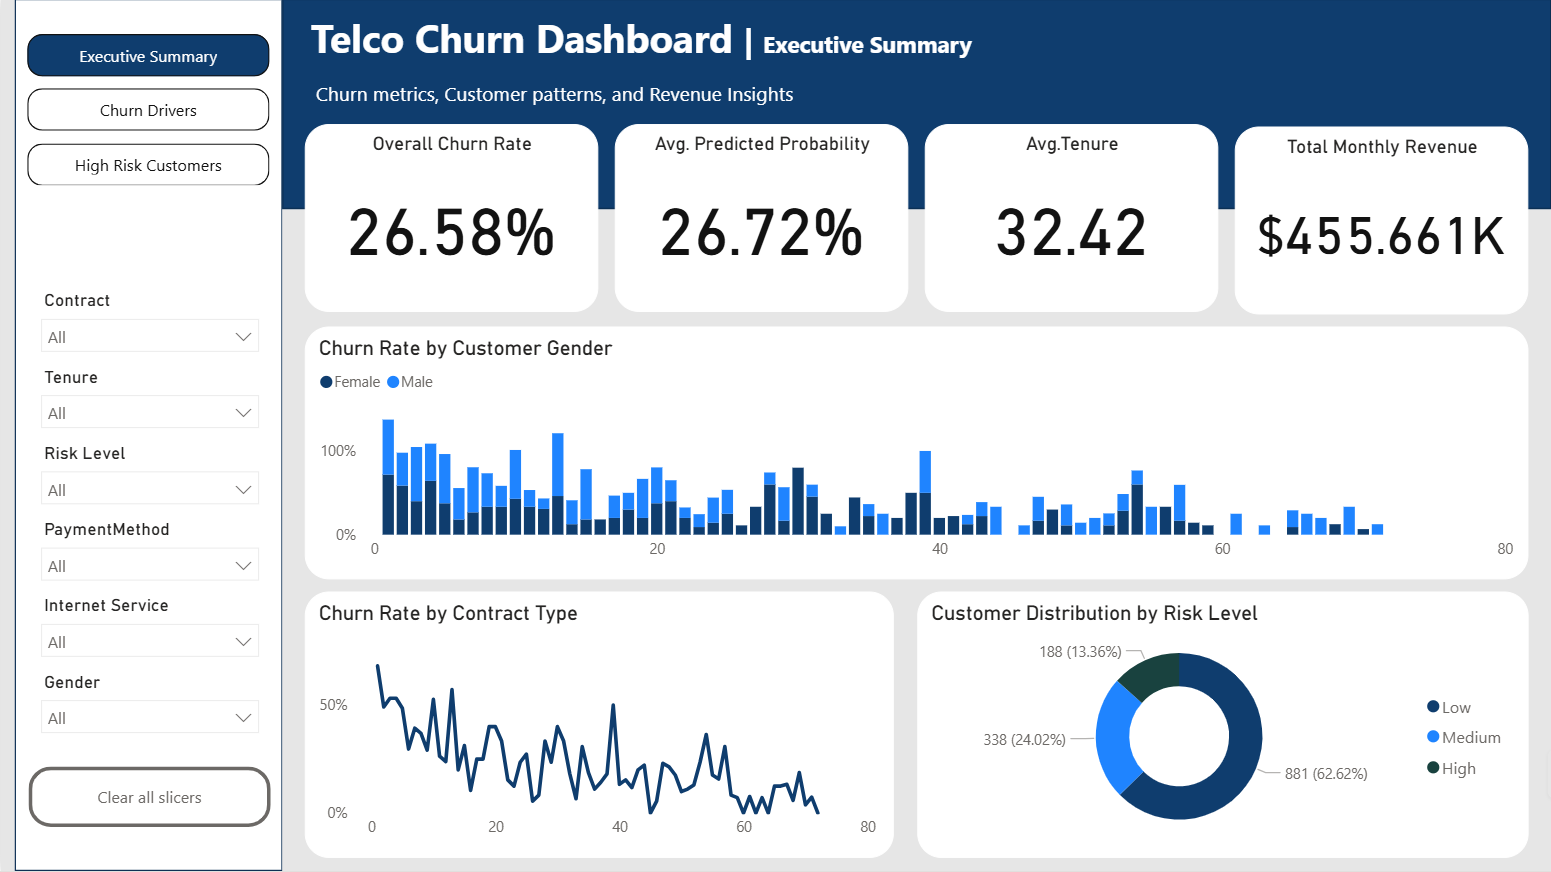

This screenshot's page, from the dashboard's own definition file:
{"tool":"powerbi","page":{"name":"Executive Summary","canvas":[1280,720],"ordinal":0},"visuals":[{"type":"shape","box":[11.1,0,221.1,720],"z":0},{"type":"slicer","fields":{"Values":["telco_churn churn_model_data.Contract"]},"box":[22.2,235.6,200,63.3],"z":0,"group":"g2"},{"type":"shape","box":[232.2,0,1047.8,173.3],"z":1000},{"type":"cardVisual","title":"Avg. Predicted Probability ","fields":{"Data":["Avg(telco_churn churn_predictions.predicted_probability)"]},"box":[507,102.9,242.2,155.6],"z":1000,"group":"g1"},{"type":"cardVisual","title":"Overall Churn Rate","fields":{"Data":["Avg(telco_churn churn_predictions.actual_churn)"]},"box":[251.1,103.3,242.2,155.6],"z":1000,"group":"g3"},{"type":"slicer","fields":{"Values":["telco_churn churn_model_data.tenure"]},"box":[22.2,298.5,200,63.3],"z":1000,"group":"g2"},{"type":"cardVisual","title":"Avg.Tenure","fields":{"Data":["Avg(telco_churn churn_model_data.tenure)"]},"box":[763,103.3,242.2,155.6],"z":2000,"group":"g3"},{"type":"slicer","fields":{"Values":["telco_churn churn_model_data.InternetService"]},"box":[22.2,487.2,200,63.3],"z":2000,"group":"g2"},{"type":"lineChart","title":"Churn Rate by Contract Type","fields":{"Category":["Churn_prediction.tenure"],"Y":["Avg(telco_churn churn_predictions.actual_churn)"]},"box":[251.1,488.9,486.7,220],"z":2000},{"type":"cardVisual","title":"Total Monthly Revenue","fields":{"Data":["Sum(telco_churn churn_model_data.MonthlyCharges)"]},"box":[1018.9,104.5,242.2,155.6],"z":3000,"group":"g3"},{"type":"slicer","fields":{"Values":["telco_churn churn_model_data.PaymentMethod"]},"box":[22.2,424.3,200,63.3],"z":3000,"group":"g2"},{"type":"donutChart","title":"Customer Distribution by Risk Level","fields":{"Category":["telco_churn churn_predictions.risk_bucket"],"Y":["CountNonNull(telco_churn churn_predictions.customerID)"]},"box":[756.7,488.9,504.4,220],"z":3000},{"type":"columnChart","title":"Churn Rate by Customer Gender","fields":{"Y":["Avg(telco_churn churn_predictions.actual_churn)"],"Category":["telco_churn churn_model_data.tenure"],"Series":["telco_churn churn_model_data.gender"]},"box":[251.1,270,1010,208.9],"z":4000},{"type":"slicer","fields":{"Values":["telco_churn churn_predictions.risk_bucket"]},"box":[22.2,361.4,200,63.3],"z":4000,"group":"g2"},{"type":"pageNavigator","box":[21.8,29.1,200.6,127.8],"z":5000},{"type":"slicer","fields":{"Values":["telco_churn churn_model_data.gender"]},"box":[22.2,550,200,63.3],"z":5000,"group":"g2"},{"type":"group","id":"g1","title":"Group 1","box":[507,102.9,242.2,155.6],"z":6000,"group":"g3"},{"type":"actionButton","box":[22.2,633.3,200,50],"z":6000},{"type":"textbox","box":[251.1,5.6,673.3,56.7],"z":7000},{"type":"group","id":"g2","title":"Group 2","box":[22.2,235.6,200,377.8],"z":8000},{"type":"group","id":"g3","title":"Group 3","box":[251.1,102.9,1010,157.1],"z":9000},{"type":"textbox","box":[251.1,62.2,655.6,41.1],"z":10000}]}

Visuals, with their boxes on the page's 1280x720 design canvas (x1, y1, x2, y2). These are canvas units, not pixel positions in the 1551x872 screenshot, which may show the page scaled, cropped or inside an application window:
shape: (left=11, top=0, right=232, bottom=720)
slicer - telco_churn churn_model_data.Contract: (left=22, top=236, right=222, bottom=299)
shape: (left=232, top=0, right=1280, bottom=173)
"Avg. Predicted Probability " cardVisual: (left=507, top=103, right=749, bottom=258)
"Overall Churn Rate" cardVisual: (left=251, top=103, right=493, bottom=259)
slicer - telco_churn churn_model_data.tenure: (left=22, top=298, right=222, bottom=362)
"Avg.Tenure" cardVisual: (left=763, top=103, right=1005, bottom=259)
slicer - telco_churn churn_model_data.InternetService: (left=22, top=487, right=222, bottom=550)
"Churn Rate by Contract Type" lineChart: (left=251, top=489, right=738, bottom=709)
"Total Monthly Revenue" cardVisual: (left=1019, top=104, right=1261, bottom=260)
slicer - telco_churn churn_model_data.PaymentMethod: (left=22, top=424, right=222, bottom=488)
"Customer Distribution by Risk Level" donutChart: (left=757, top=489, right=1261, bottom=709)
"Churn Rate by Customer Gender" columnChart: (left=251, top=270, right=1261, bottom=479)
slicer - telco_churn churn_predictions.risk_bucket: (left=22, top=361, right=222, bottom=425)
pageNavigator: (left=22, top=29, right=222, bottom=157)
slicer - telco_churn churn_model_data.gender: (left=22, top=550, right=222, bottom=613)
"Group 1" group: (left=507, top=103, right=749, bottom=258)
actionButton: (left=22, top=633, right=222, bottom=683)
textbox: (left=251, top=6, right=924, bottom=62)
"Group 2" group: (left=22, top=236, right=222, bottom=613)
"Group 3" group: (left=251, top=103, right=1261, bottom=260)
textbox: (left=251, top=62, right=907, bottom=103)
